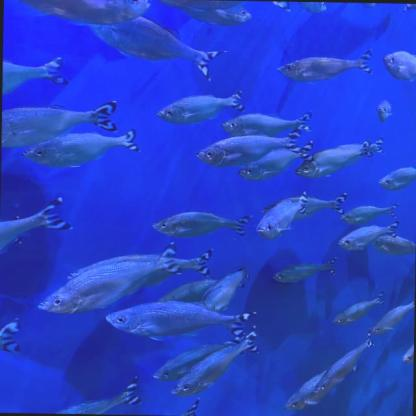fish: (37, 236, 214, 318), (94, 10, 226, 82), (282, 328, 380, 416), (165, 320, 264, 402), (152, 318, 256, 390), (99, 300, 266, 342), (1, 98, 121, 154), (18, 126, 144, 169), (259, 188, 349, 244), (195, 127, 304, 171), (0, 195, 73, 257), (3, 0, 154, 29), (234, 138, 316, 186), (292, 137, 374, 183), (154, 87, 248, 127), (276, 46, 376, 83), (50, 376, 144, 414), (151, 208, 251, 242), (217, 110, 315, 142), (2, 53, 70, 97), (267, 253, 343, 292), (204, 264, 252, 314), (164, 2, 256, 26), (334, 288, 386, 330), (368, 297, 414, 342), (332, 219, 401, 248), (338, 200, 402, 226), (330, 135, 386, 161), (382, 48, 416, 85), (0, 316, 27, 355), (379, 164, 415, 192), (374, 233, 415, 255), (374, 98, 396, 125), (294, 1, 327, 14), (401, 340, 413, 368), (402, 3, 416, 20)
